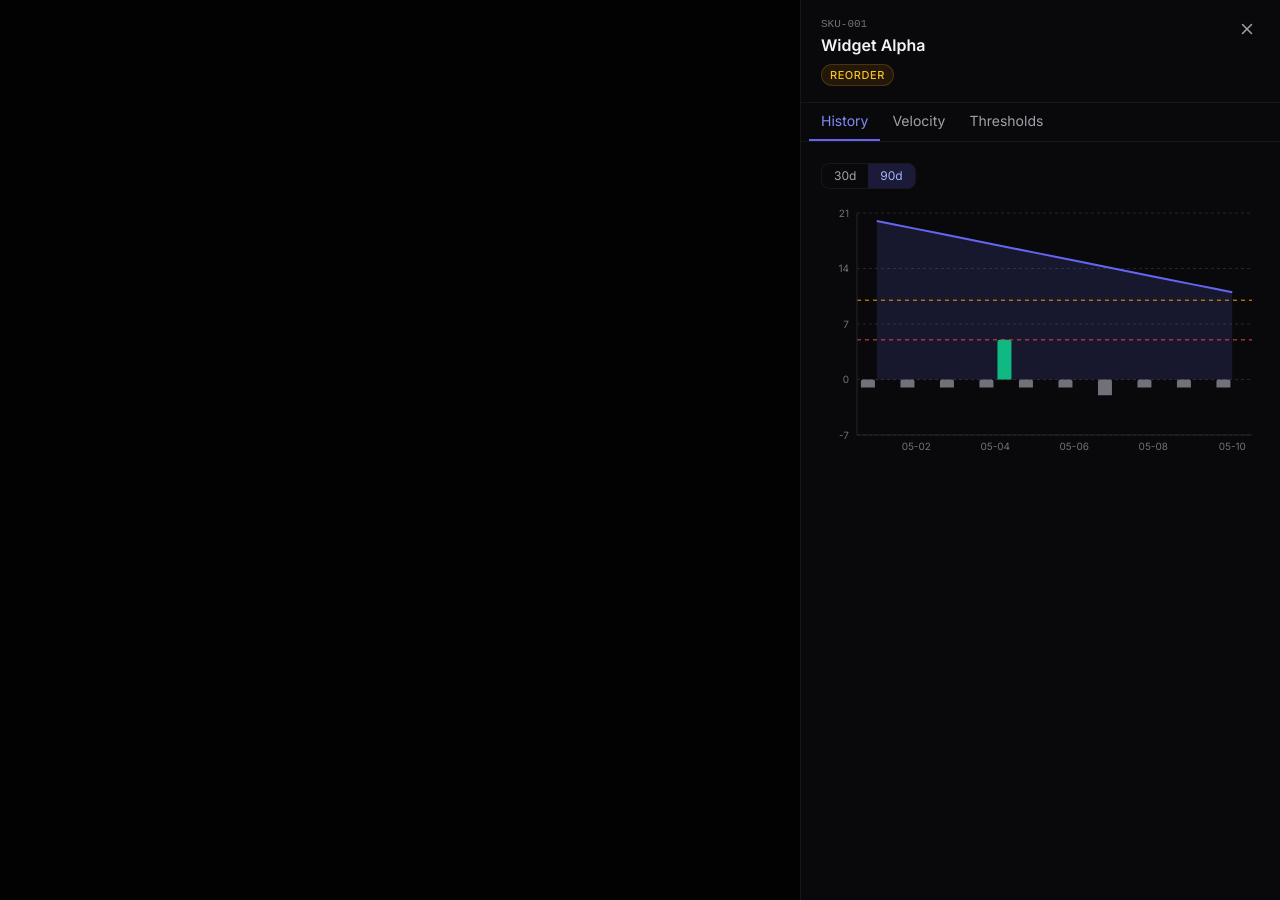
Test case: ProductDrawer › velocity tab shows three rate tiles and four projection KPI rows
What coordinates should you click on to do the following:
click the tab "Velocity"
I would click on:
 (919, 122)
Its box is [880,103,957,141].
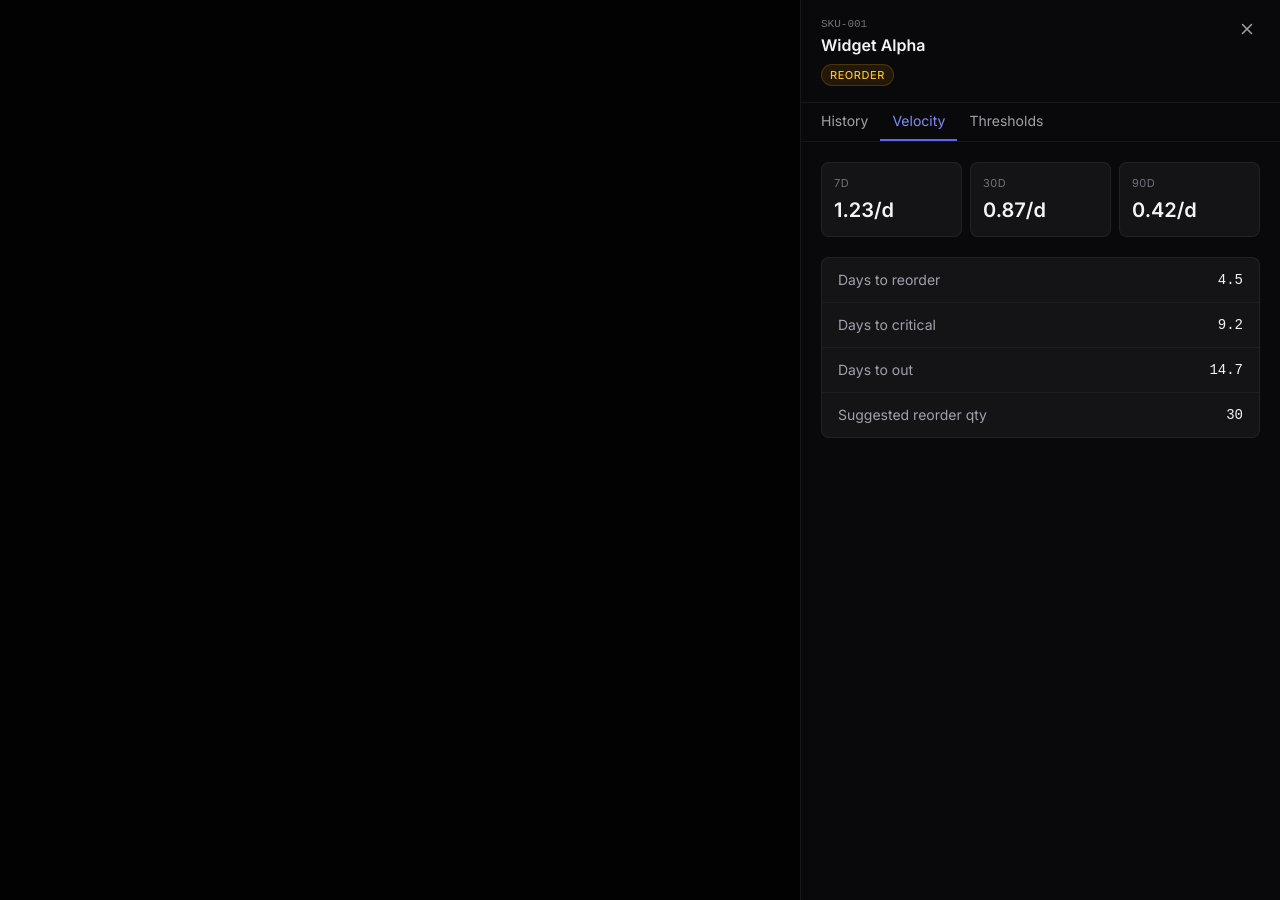
Check: the text "1.23/d" is shown, box [834,198,894,222]
Check: the text "0.87/d" is shown, box [983,198,1046,222]
Check: the text "0.42/d" is shown, box [1132,198,1197,222]
